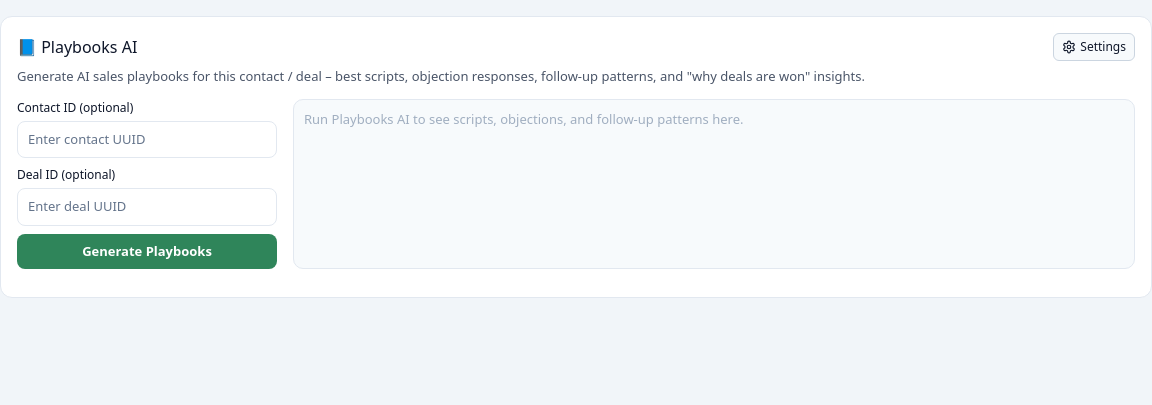
Scenario: PlaybooksPanel › Error Handling › should clear previous results on new generation
In the field with placeholder "Enter contact UUID": (147, 139) [17, 120, 277, 158], type "contact-456"
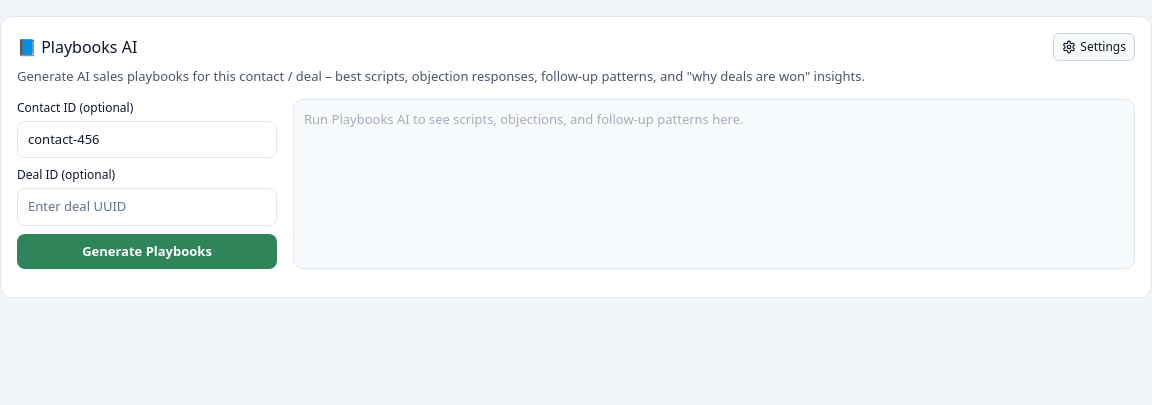
Click the button "Generate Playbooks": (147, 251) [17, 234, 277, 269]
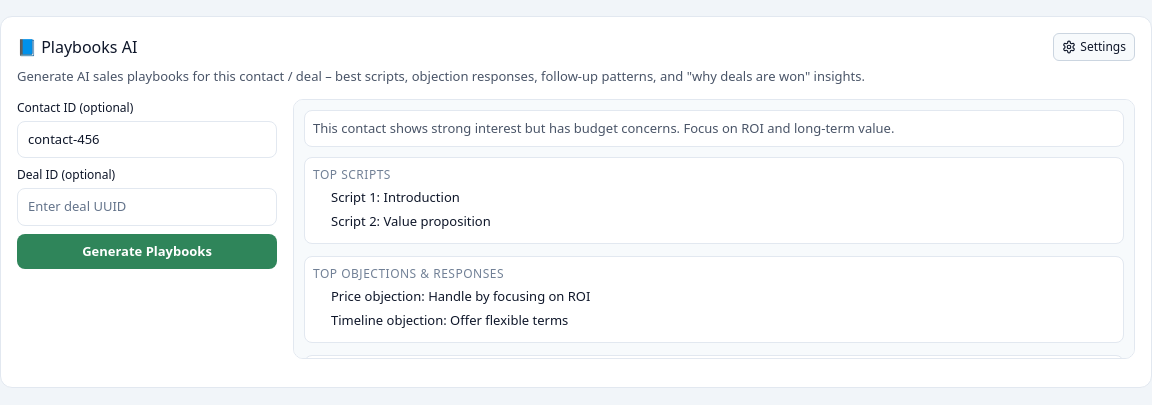
Result: the text "Top Scripts" is shown at [313, 166, 391, 183]
Start new generation
Replace the text in the field with placeholder "Enter contact UUID" with "contact-789": (147, 139) [17, 120, 277, 158]
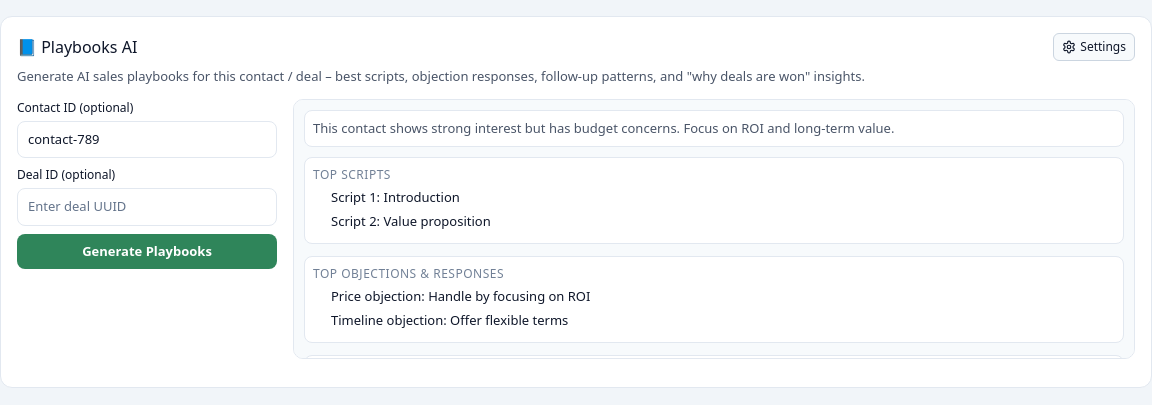
Click the button "Generate Playbooks": (147, 251) [17, 234, 277, 269]
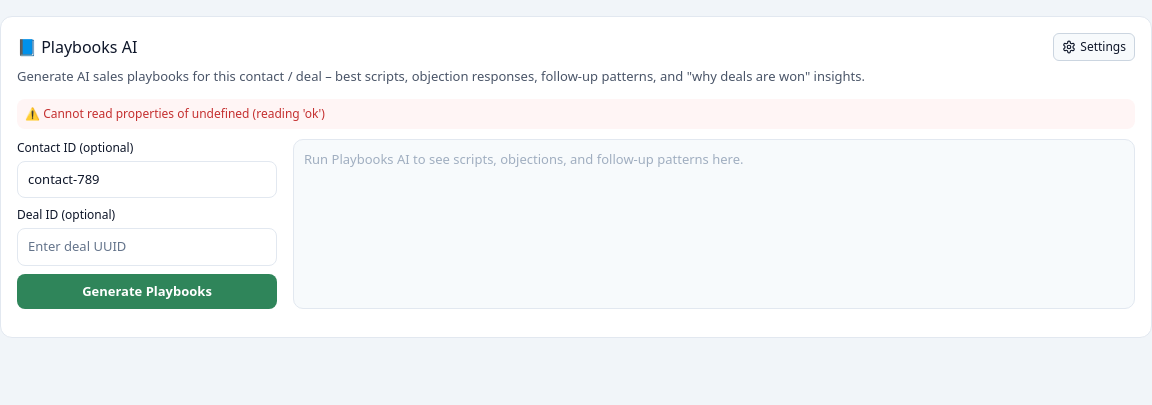
Result: the text "Top Scripts" is gone
